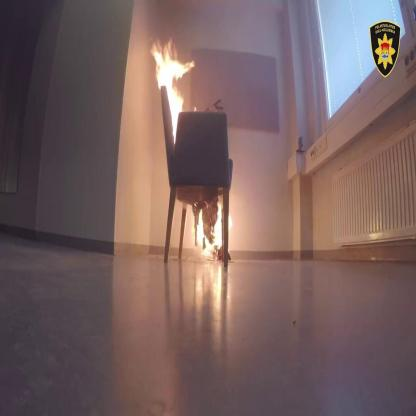Fire: (152, 22, 188, 112), (200, 209, 230, 253)
